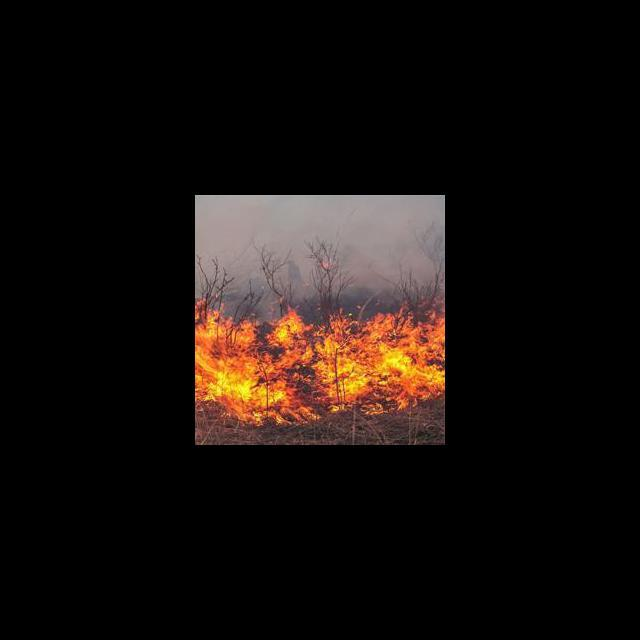Fire: (196, 287, 445, 428)
Smoke: (198, 196, 444, 284)
